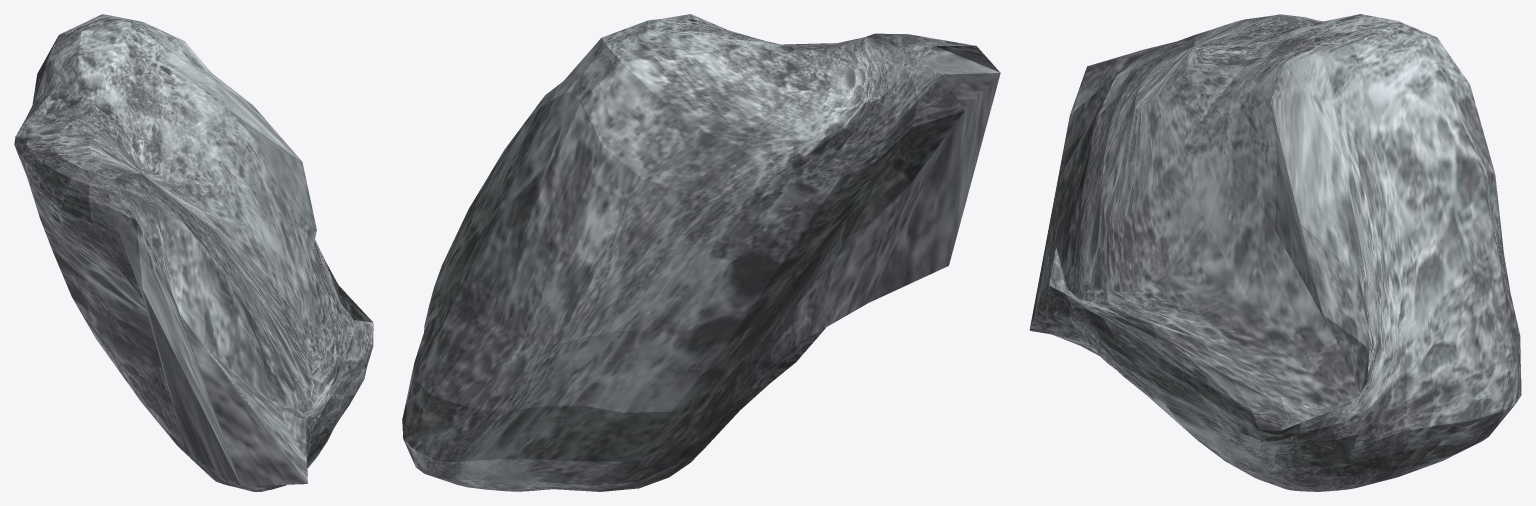
File: rock3.glb
3 views of the same model, side by side, from view 1: azimuth 30°, elevation 25°; view 2: azimuth 150°, elevation 25°; view 3: azimuth 270°, elevation 25° (orthographic). The views are drawn at different scales.
Visible parts, largest first — view 1: Sphere; view 2: Sphere; view 3: Sphere.
Part boxes in pixels (x1,y1,x2,y2): Sphere: (14,14,373,491); Sphere: (402,14,1000,491); Sphere: (1029,14,1521,491).
Bounding box in the file's own units: 15.29 × 18.45 × 20.02.
Materials: 1 (1 with a texture image).
